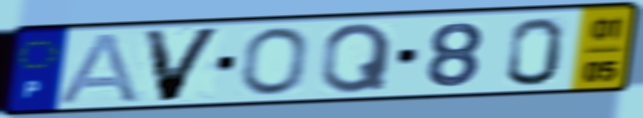0: (503, 14, 569, 88)
8: (426, 20, 485, 88)
A: (55, 30, 143, 106)
O: (240, 25, 310, 98)
Q: (318, 20, 396, 96)
V: (138, 25, 228, 105)
